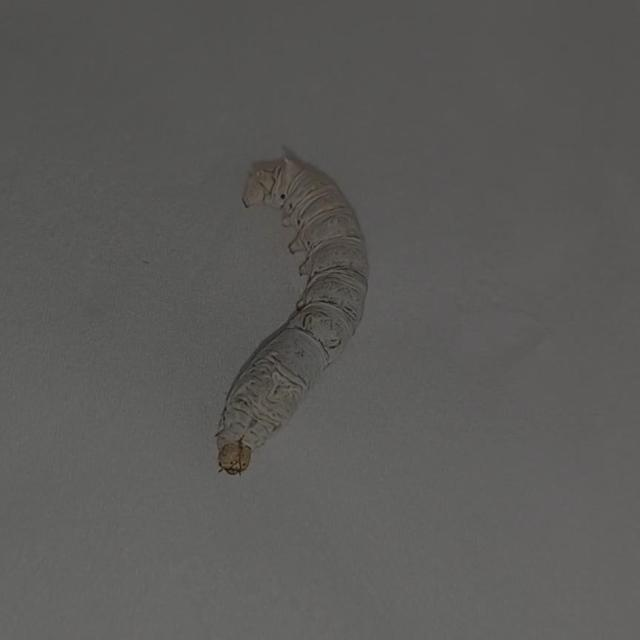Healthy: (202, 143, 379, 484)
